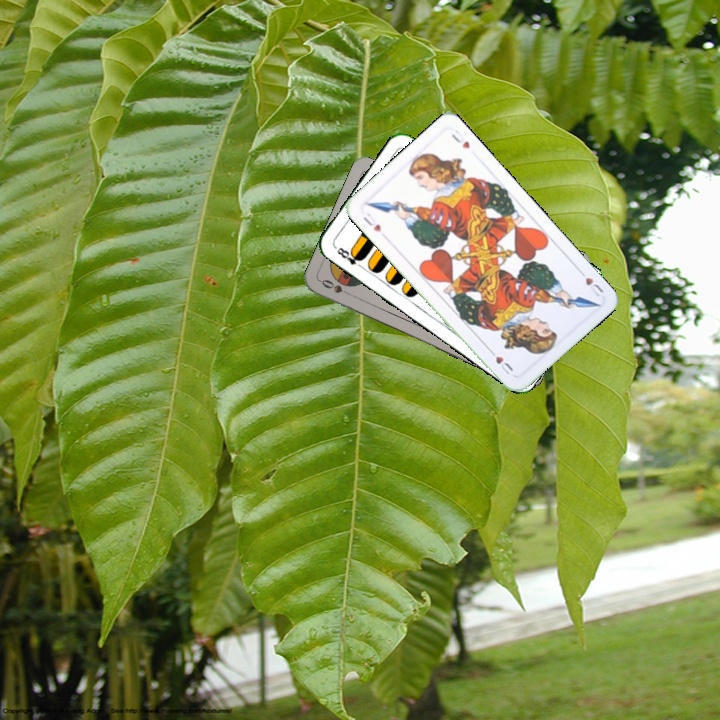E8: (331, 243, 366, 271)
HU: (574, 265, 607, 299), (359, 209, 384, 235)
SO: (317, 275, 355, 299)
